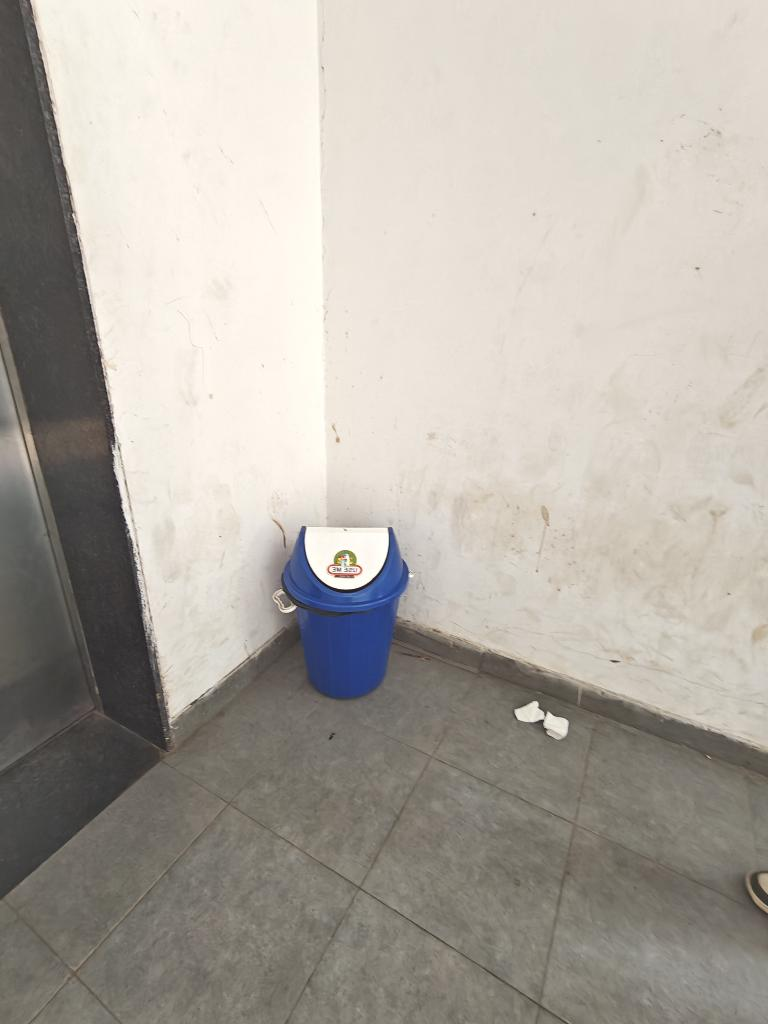dustbin: (264, 522, 418, 720)
